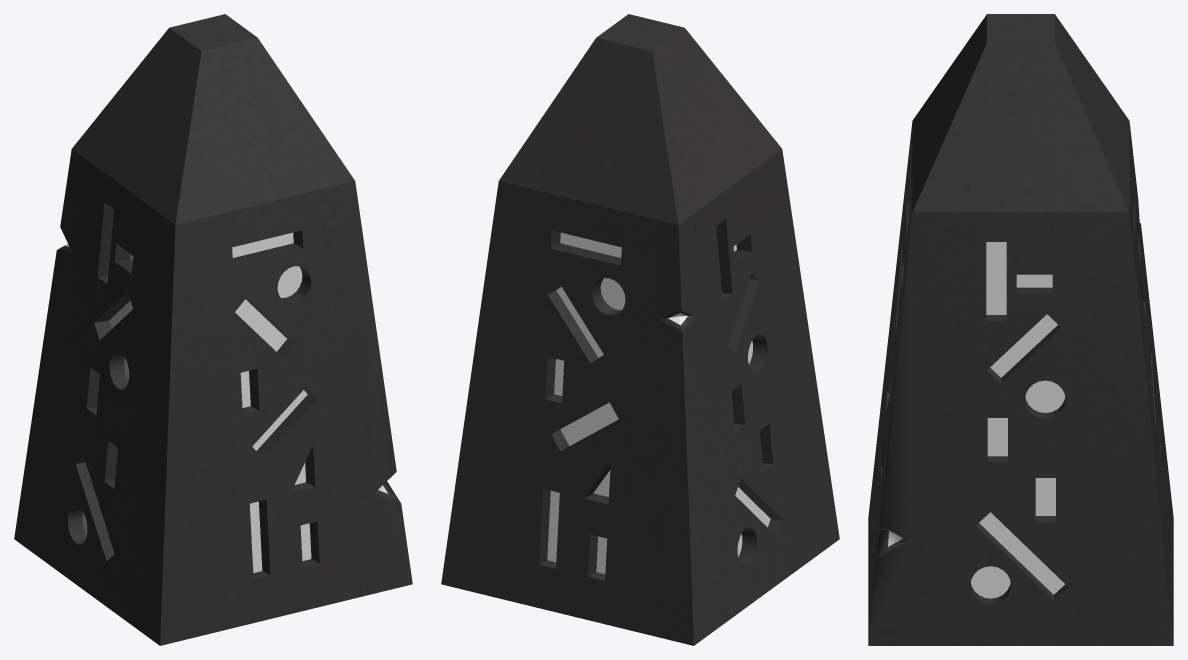
The model's file is blancaParpadeoRojo.fbx.
The picture shows the model from 3 angles, left to right: view 1: azimuth 30°, elevation 25°; view 2: azimuth 150°, elevation 25°; view 3: azimuth 270°, elevation 25°; orthographic projection. The views are drawn at different scales.
Visible parts, largest first — view 1: pCube39; view 2: pCube39; view 3: pCube39.
Part boxes in pixels (x1=…): pCube39: x1=14, y1=14, x2=412, y2=645; pCube39: x1=441, y1=14, x2=839, y2=645; pCube39: x1=868, y1=14, x2=1173, y2=645.
Size of the model in its own units: 3 by 6 by 3.
Materials: 2 (1 with a texture image).
